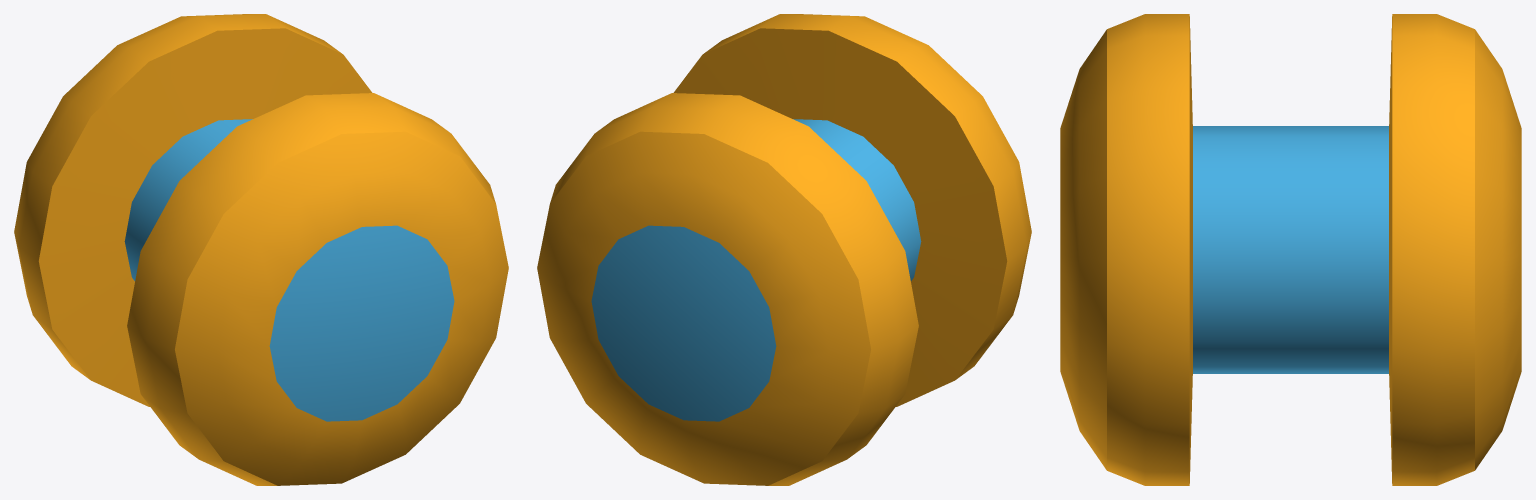
File: Hanging_Hammer_Socket_04.fbx
The picture shows the model from 3 angles, left to right: view 1: azimuth 30°, elevation 25°; view 2: azimuth 150°, elevation 25°; view 3: azimuth 270°, elevation 25°; orthographic projection. The views are drawn at different scales.
Parts seen in each view (by area): view 1: Obstacle_Hanging_Hammer_Socket_04; view 2: Obstacle_Hanging_Hammer_Socket_04; view 3: Obstacle_Hanging_Hammer_Socket_04.
Part boxes in pixels (x1,y1,x2,y2): Obstacle_Hanging_Hammer_Socket_04: [14, 14, 508, 485]; Obstacle_Hanging_Hammer_Socket_04: [537, 14, 1031, 485]; Obstacle_Hanging_Hammer_Socket_04: [1060, 14, 1521, 485].
Size of the model in its own units: 50 by 50 by 48.79.
1 material, 1 textured.
